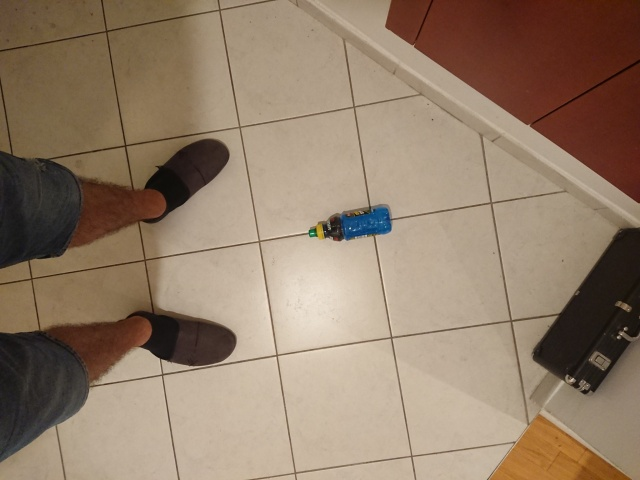Vindi Iso Sport Forest Strawberries 500mL: (307, 206, 393, 242)
